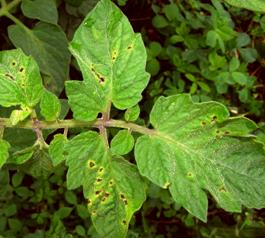Tomato leaf bacterial spot: (129, 91, 265, 223), (61, 0, 157, 123), (61, 128, 158, 238), (0, 46, 44, 114)
